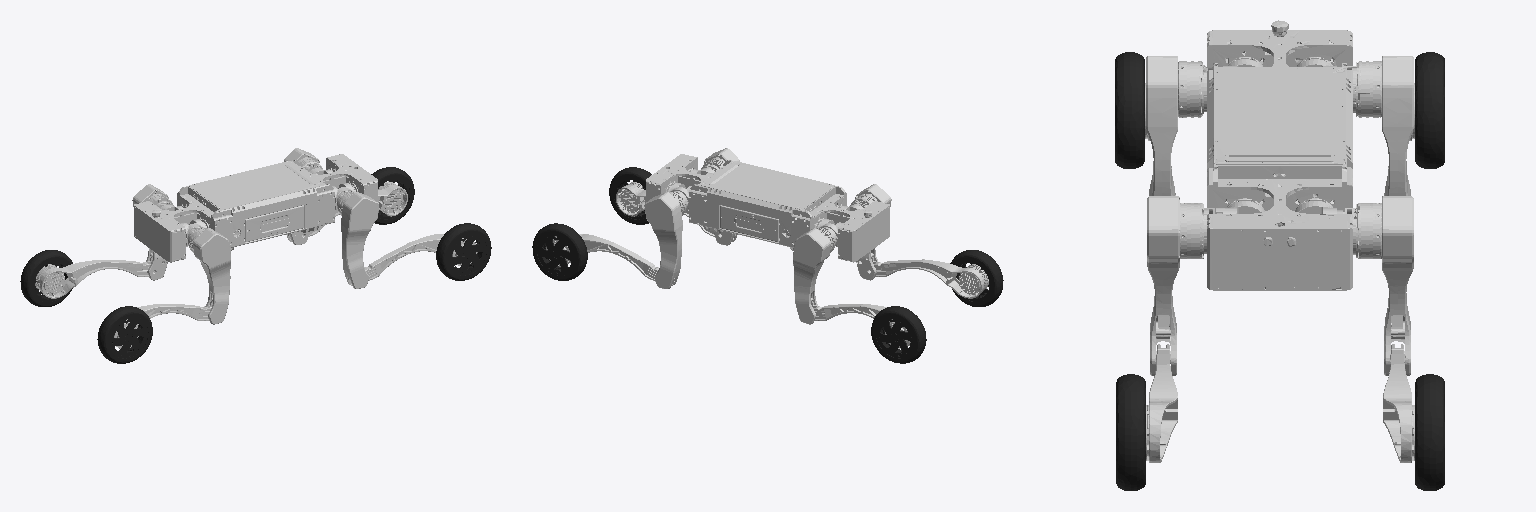
The robot description file, URDF, robot "m1":
<?xml version="1.0" encoding="utf-8"?>
<!-- This URDF was automatically created by SolidWorks to URDF Exporter! Originally created by Stephen Brawner (brawner@gmail.com) 
     Commit Version: 1.6.0-4-g7f85cfe  Build Version: 1.6.7995.38578
     For more information, please see http://wiki.ros.org/sw_urdf_exporter -->
<robot
  name="m1">

  <material name="black">
    <color rgba="0.0 0.0 0.0 1.0"/>
  </material>
  <material name="light_grey">
    <color rgba="0.85 0.85 0.85 1.0"/>
  </material>
  <material name="grey">
    <color rgba="0.2 0.2 0.2 1.0"/>
  </material>
  <link
    name="trunk">
    <inertial>
      <origin
        xyz="0.0012616 5.2895E-05 0.025714"
        rpy="0 0 0" />
      <mass
        value="13.9" />
      <inertia
        ixx="0.047768"
        ixy="5.3367E-06"
        ixz="-1.422E-06"
        iyy="0.43376"
        iyz="7.6034E-06"
        izz="0.47392" />
    </inertial>
    <visual>
      <origin
        xyz="0 0 0"
        rpy="0 0 0" />
      <geometry>
        <mesh
          filename="../meshes/trunk.STL" />
      </geometry>
      <material name="light_grey"/>
    </visual>
    <collision>
      <origin rpy="0 0 0" xyz="0.0 0 0.06"/>
      <geometry>
        <box size="0.4 0.25 0.16"/>
      </geometry>
    </collision>
    <collision>
      <origin rpy="0 0 0" xyz="0.37 0 0.06"/>
      <geometry>
        <box size="0.06 0.24 0.11"/>
      </geometry>
    </collision>
    <collision>
      <origin rpy="0 0 0" xyz="-0.37 0 0.06"/>
      <geometry>
        <box size="0.06 0.24 0.11"/>
      </geometry>
    </collision>
  </link>
  <joint name="imu_joint" type="fixed">
    <parent link="trunk"/>
    <child link="imu_link"/>
    <origin rpy="0 0 0" xyz="0 0 0"/>
  </joint>
  <link name="imu_link">
    <inertial>
      <mass value="0.001"/>
      <origin rpy="0 0 0" xyz="0 0 0"/>
      <inertia ixx="0.0001" ixy="0" ixz="0" iyy="0.0001" iyz="0" izz="0.0001"/>
    </inertial>
    <visual>
      <origin rpy="0 0 0" xyz="0 0 0"/>
      <geometry>
        <box size="0.001 0.001 0.001"/>
      </geometry>
    </visual>
  </link>
  <link
    name="LF_abad_link">
    <inertial>
      <origin
        xyz="-2.5841E-05 0.014876 0.00063077"
        rpy="0 0 0" />
      <mass
        value="3.325" />
      <inertia
        ixx="0.0030921"
        ixy="2.5247E-06"
        ixz="1.0139E-05"
        iyy="0.0022587"
        iyz="1.3093E-06"
        izz="0.0021107" />
    </inertial>
    <visual>
      <origin
        xyz="0 0 0"
        rpy="0 0 0" />
      <geometry>
        <mesh
          filename="../meshes/LF_ABAD_Link.STL" />
      </geometry>
      <material name="light_grey"/>
    </visual>
    <collision>
      <origin rpy="0 1.5707963267948966 0" xyz="0 0 0"/>
      <geometry>
        <cylinder length="0.08" radius="0.033"/>
      </geometry>
    </collision>
  </link>
  <joint
    name="LF_HAA"
    type="revolute">
    <origin
      xyz="0.28614 0.06 0.058"
      rpy="0 0 0" />
    <parent
      link="trunk" />
    <child
      link="LF_abad_link" />
    <axis
      xyz="1 0 0" />
    <limit
      lower="-1.134464"
      upper="1.570796"
      effort="40"
      velocity="21" />
  </joint>
  <link
    name="LF_thigh_link">
    <inertial>
      <origin
        xyz="-0.010007 0.05226 -0.058836"
        rpy="0 0 0" />
      <mass
        value="2.515" />
      <inertia
        ixx="0.014475"
        ixy="3.5191E-05"
        ixz="-0.0013218"
        iyy="0.016621"
        iyz="9.9535E-05"
        izz="0.0024626" />
    </inertial>
    <visual>
      <origin
        xyz="0 0 0"
        rpy="0 0 0" />
      <geometry>
        <mesh
          filename="../meshes/LF_THIGH_Link.STL" />
      </geometry>
      <material name="light_grey"/>
    </visual>
    <collision>
      <origin rpy="1.5707963267948966 0 0" xyz="0 0.058 0.0"/>
      <geometry>
        <cylinder radius="0.046" length="0.095"/>
      </geometry>
    </collision>
    <collision>
      <origin rpy="0 1.5707963267948966 0" xyz="-0.024 0.078 -0.12"/>
      <geometry>
        <box size="0.12 0.03 0.04"/>
      </geometry>
    </collision>
  </link>
  <joint
    name="LF_HFE"
    type="revolute">
    <origin
      xyz="0 0.063 0"
      rpy="0 0 0" />
    <parent
      link="LF_abad_link" />
    <child
      link="LF_thigh_link" />
    <axis
      xyz="0 1 0" />
    <limit
      lower="-1.201135"
      upper="4.156458"
      effort="40"
      velocity="21" />
  </joint>
  <link
    name="LF_shank_link">
    <inertial>
      <origin
        xyz="0.008931 0.023979 -0.2881"
        rpy="0 0 0" />
      <mass
        value="1.578" />
      <inertia
        ixx="0.012778"
        ixy="3.3951E-05"
        ixz="0.0003029"
        iyy="0.013738"
        iyz="0.00030089"
        izz="0.0012546" />
    </inertial>
    <visual>
      <origin
        xyz="0 0 0"
        rpy="0 0 0" />
      <geometry>
        <mesh
          filename="../meshes/LF_SHANK_Link.STL" />
      </geometry>
      <material name="light_grey"/>
    </visual>
    <collision>
      <origin rpy="0 1.35 0" xyz="0.033 0 -0.14"/>
      <geometry>
        <box size="0.155 0.026 0.026"/>
      </geometry>
    </collision>
    <collision>
      <origin rpy="0 1.9 0" xyz="0.028 0 -0.27"/>
      <geometry>
        <box size="0.086 0.033 0.035"/>
      </geometry>
    </collision>
  </link>
  <joint
    name="LF_KNEE"
    type="revolute">
    <origin
      xyz="0 0.0778 -0.23848"
      rpy="0 0 0" />
    <parent
      link="LF_thigh_link" />
    <child
      link="LF_shank_link" />
    <axis
      xyz="0 1 0" />
    <limit
      lower="-2.617994"
      upper="-0.680678"
      effort="100"
      velocity="8" />
  </joint>
  <link
    name="LF_FOOT_link">
    <inertial>
      <origin
        xyz="2.6076E-06 -0.021187 -2.4862E-07"
        rpy="0 0 0" />
      <mass
        value="0.856" />
      <inertia
        ixx="0.0030911"
        ixy="1.6918E-08"
        ixz="-2.0692E-07"
        iyy="0.0059162"
        iyz="-1.9592E-09"
        izz="0.0030898" />
    </inertial>
    <visual>
      <origin
        xyz="0 0 0"
        rpy="0 0 0" />
      <geometry>
        <mesh
          filename="../meshes/LF_FOOT_Link.STL" />
      </geometry>
      <material name="grey"/>
    </visual>
    <collision>
      <origin rpy="1.5707963267948966 0 0" xyz="0 -0.02325 0.00011"/>
      <geometry>
        <cylinder radius="0.095" length="0.045"/>
      </geometry>
    </collision>
  </link>
  <joint
    name="LF_WHEEL"
    type="revolute">
    <origin
      xyz="0 0.07855 -0.36538"
      rpy="0 0 0" />
    <parent
      link="LF_shank_link" />
    <child
      link="LF_FOOT_link" />
    <axis
      xyz="0 1 0" />
    <limit
      lower="-99999"
      upper="99999"
      effort="40"
      velocity="21" />
  </joint>
  <link
    name="RF_abad_link">
    <inertial>
      <origin
        xyz="-2.5854E-05 -0.014876 -0.00063077"
        rpy="0 0 0" />
      <mass
        value="3.325" />
      <inertia
        ixx="0.0030921"
        ixy="-2.5247E-06"
        ixz="-1.0139E-05"
        iyy="0.0022587"
        iyz="1.3093E-06"
        izz="0.0021107" />
    </inertial>
    <visual>
      <origin
        xyz="0 0 0"
        rpy="0 0 0" />
      <geometry>
        <mesh
          filename="../meshes/RF_ABAD_Link.STL" />
      </geometry>
      <material name="light_grey"/>
    </visual>
    <collision>
      <origin rpy="0 1.5707963267948966 0" xyz="0 0 0"/>
      <geometry>
        <cylinder length="0.08" radius="0.033"/>
      </geometry>
    </collision>
  </link>
  <joint
    name="RF_HAA"
    type="revolute">
    <origin
      xyz="0.28614 -0.06 0.058"
      rpy="0 0 0" />
    <parent
      link="trunk" />
    <child
      link="RF_abad_link" />
    <axis
      xyz="1 0 0" />
    <limit
      lower="-1.570796"
      upper="1.134464"
      effort="40"
      velocity="21" />
  </joint>
  <link
    name="RF_thigh_link">
    <inertial>
      <origin
        xyz="-0.010605 -0.056769 -0.06102"
        rpy="0 0 0" />
      <mass
        value="2.515" />
      <inertia
        ixx="0.016911"
        ixy="-1.0748E-05"
        ixz="-0.0015773"
        iyy="0.019346"
        iyz="-4.6592E-05"
        izz="0.0027816" />
    </inertial>
    <visual>
      <origin
        xyz="0 0 0"
        rpy="0 0 0" />
      <geometry>
        <mesh
          filename="../meshes/RF_THIGH_Link.STL" />
      </geometry>
      <material name="light_grey"/>
    </visual>
    <collision>
      <origin rpy="1.5707963267948966 0 0" xyz="0 -0.058 0.0"/>
      <geometry>
        <cylinder radius="0.046" length="0.095"/>
      </geometry>
    </collision>
    <collision>
      <origin rpy="0 1.5707963267948966 0" xyz="-0.024 -0.078 -0.12"/>
      <geometry>
        <box size="0.12 0.03 0.04"/>
      </geometry>
    </collision>
  </link>
  <joint
    name="RF_HFE"
    type="revolute">
    <origin
      xyz="0 -0.061 0"
      rpy="0 0 0" />
    <parent
      link="RF_abad_link" />
    <child
      link="RF_thigh_link" />
    <axis
      xyz="0 1 0" />
    <limit
      lower="-1.201135"
      upper="4.156458"
      effort="40"
      velocity="21" />
  </joint>
  <link
    name="RF_shank_link">
    <inertial>
      <origin
        xyz="0.0092708 -0.023991 -0.28836"
        rpy="0 0 0" />
      <mass
        value="1.578" />
      <inertia
        ixx="0.012757"
        ixy="-3.6897E-05"
        ixz="0.0003"
        iyy="0.013714"
        iyz="-0.0002993"
        izz="0.001252" />
    </inertial>
    <visual>
      <origin
        xyz="0 0 0"
        rpy="0 0 0" />
      <geometry>
        <mesh
          filename="../meshes/RF_SHANK_Link.STL" />
      </geometry>
      <material name="light_grey"/>
    </visual>
    <collision>
      <origin rpy="0 1.35 0" xyz="0.033 0 -0.14"/>
      <geometry>
        <box size="0.155 0.026 0.026"/>
      </geometry>
    </collision>
    <collision>
      <origin rpy="0 1.9 0" xyz="0.028 0 -0.27"/>
      <geometry>
        <box size="0.086 0.033 0.035"/>
      </geometry>
    </collision>
  </link>
  <joint
    name="RF_KNEE"
    type="revolute">
    <origin
      xyz="0 -0.0778 -0.23848"
      rpy="0 0 0" />
    <parent
      link="RF_thigh_link" />
    <child
      link="RF_shank_link" />
    <axis
      xyz="0 1 0" />
    <limit
      lower="-2.617994"
      upper="-0.680678"
      effort="100"
      velocity="8" />
  </joint>
  <link
    name="RF_FOOT_link">
    <inertial>
      <origin
        xyz="-2.607E-06 0.021187 -2.5561E-07"
        rpy="0 0 0" />
      <mass
        value="0.856" />
      <inertia
        ixx="0.0030911"
        ixy="1.6913E-08"
        ixz="2.1053E-07"
        iyy="0.0059162"
        iyz="2.0046E-09"
        izz="0.0030898" />
    </inertial>
    <visual>
      <origin
        xyz="0 0 0"
        rpy="0 0 0" />
      <geometry>
        <mesh
          filename="../meshes/RF_FOOT_Link.STL" />
      </geometry>
      <material name="grey"/>
    </visual>
    <collision>
      <origin rpy="1.5707963267948966 0 0" xyz="0 0.02325 0"/>
      <geometry>
        <cylinder radius="0.095" length="0.045"/>
      </geometry>
    </collision>
  </link>
  <joint
    name="RF_WHEEL"
    type="revolute">
    <origin
      xyz="0 -0.07855 -0.36538"
      rpy="0 0 0" />
    <parent
      link="RF_shank_link" />
    <child
      link="RF_FOOT_link" />
    <axis
      xyz="0 1 0" />
    <limit
      lower="-99999"
      upper="99999"
      effort="40"
      velocity="21" />
  </joint>
  <link
    name="LH_abad_link">
    <inertial>
      <origin
        xyz="-2.5841E-05 0.014876 0.00063077"
        rpy="0 0 0" />
      <mass
        value="3.325" />
      <inertia
        ixx="0.0030921"
        ixy="2.5247E-06"
        ixz="1.0139E-05"
        iyy="0.0022587"
        iyz="1.3093E-06"
        izz="0.0021107" />
    </inertial>
    <visual>
      <origin
        xyz="0 0 0"
        rpy="0 0 0" />
      <geometry>
        <mesh
          filename="../meshes/LH_ABAD_Link.STL" />
      </geometry>
      <material name="light_grey"/>
    </visual>
    <collision>
      <origin rpy="0 1.5707963267948966 0" xyz="0 0 0"/>
      <geometry>
        <cylinder length="0.08" radius="0.033"/>
      </geometry>
    </collision>
  </link>
  <joint
    name="LH_HAA"
    type="revolute">
    <origin
      xyz="-0.28586 0.06 0.058"
      rpy="0 0 0" />
    <parent
      link="trunk" />
    <child
      link="LH_abad_link" />
    <axis
      xyz="1 0 0" />
    <limit
      lower="-1.134464"
      upper="1.570796"
      effort="40"
      velocity="21" />
  </joint>
  <link
    name="LH_thigh_link">
    <inertial>
      <origin
        xyz="0.010605 0.056769 -0.06102"
        rpy="0 0 0" />
      <mass
        value="2.515" />
      <inertia
        ixx="0.016911"
        ixy="-1.0748E-05"
        ixz="0.0015773"
        iyy="0.019346"
        iyz="4.6592E-05"
        izz="0.0027816" />
    </inertial>
    <visual>
      <origin
        xyz="0 0 0"
        rpy="0 0 0" />
      <geometry>
        <mesh
          filename="../meshes/LH_THIGH_Link.STL" />
      </geometry>
      <material name="light_grey"/>
    </visual>
    <collision>
      <origin rpy="1.5707963267948966 0 0" xyz="0 0.058 0.0"/>
      <geometry>
        <cylinder radius="0.046" length="0.095"/>
      </geometry>
    </collision>
    <collision>
      <origin rpy="0 -1.5707963267948966 0" xyz="0.024 0.078 -0.12"/>
      <geometry>
        <box size="0.12 0.03 0.04"/>
      </geometry>
    </collision>
  </link>
  <joint
    name="LH_HFE"
    type="revolute">
    <origin
      xyz="0 0.063 0"
      rpy="0 0 0" />
    <parent
      link="LH_abad_link" />
    <child
      link="LH_thigh_link" />
    <axis
      xyz="0 1 0" />
    <limit
      lower="-4.156458"
      upper="1.201135"
      effort="40"
      velocity="21" />
  </joint>
  <link
    name="LH_shank_link">
    <inertial>
      <origin
        xyz="-0.0092708 0.023991 -0.28836"
        rpy="0 0 0" />
      <mass
        value="1.578" />
      <inertia
        ixx="0.012757"
        ixy="-3.6897E-05"
        ixz="-0.0003"
        iyy="0.013714"
        iyz="0.0002993"
        izz="0.001252" />
    </inertial>
    <visual>
      <origin
        xyz="0 0 0"
        rpy="0 0 0" />
      <geometry>
        <mesh
          filename="../meshes/LH_SHANK_Link.STL" />
      </geometry>
      <material name="light_grey"/>
    </visual>
    <collision>
      <origin rpy="0 -1.35 0" xyz="-0.033 0 -0.14"/>
      <geometry>
        <box size="0.155 0.026 0.026"/>
      </geometry>
    </collision>
    <collision>
      <origin rpy="0 -1.9 0" xyz="-0.028 0 -0.27"/>
      <geometry>
        <box size="0.086 0.033 0.035"/>
      </geometry>
    </collision>
  </link>
  <joint
    name="LH_KNEE"
    type="revolute">
    <origin
      xyz="0 0.0778 -0.23848"
      rpy="0 0 0" />
    <parent
      link="LH_thigh_link" />
    <child
      link="LH_shank_link" />
    <axis
      xyz="0 1 0" />
    <limit
      lower="0.680678"
      upper="2.617994"
      effort="100"
      velocity="8" />
  </joint>
  <link
    name="LH_FOOT_link">
    <inertial>
      <origin
        xyz="2.607E-06 -0.021187 -2.5561E-07"
        rpy="0 0 0" />
      <mass
        value="0.856" />
      <inertia
        ixx="0.0030911"
        ixy="1.6913E-08"
        ixz="-2.1053E-07"
        iyy="0.0059162"
        iyz="-2.0046E-09"
        izz="0.0030898" />
    </inertial>
    <visual>
      <origin
        xyz="0 0 0"
        rpy="0 0 0" />
      <geometry>
        <mesh
          filename="../meshes/LH_FOOT_Link.STL" />
      </geometry>
      <material name="grey"/>
    </visual>
    <collision>
      <origin rpy="1.5707963267948966 0 0" xyz="0.00010 -0.02325 0"/>
      <geometry>
        <cylinder radius="0.095" length="0.045"/>
      </geometry>
    </collision>
  </link>
  <joint
    name="LH_WHEEL"
    type="revolute">
    <origin
      xyz="0 0.07855 -0.36538"
      rpy="0 0 0" />
    <parent
      link="LH_shank_link" />
    <child
      link="LH_FOOT_link" />
    <axis
      xyz="0 1 0" />
    <limit
      lower="-99999"
      upper="99999"
      effort="40"
      velocity="21" />
  </joint>
  <link
    name="RH_abad_link">
    <inertial>
      <origin
        xyz="-2.5841E-05 -0.014876 -0.00063077"
        rpy="0 0 0" />
      <mass
        value="3.325" />
      <inertia
        ixx="0.0030921"
        ixy="-2.5247E-06"
        ixz="-1.0139E-05"
        iyy="0.0022587"
        iyz="1.3093E-06"
        izz="0.0021107" />
    </inertial>
    <visual>
      <origin
        xyz="0 0 0"
        rpy="0 0 0" />
      <geometry>
        <mesh
          filename="../meshes/RH_ABAD_Link.STL" />
      </geometry>
      <material name="light_grey"/>
    </visual>
    <collision>
      <origin rpy="0 1.5707963267948966 0" xyz="0 0 0"/>
      <geometry>
        <cylinder length="0.08" radius="0.033"/>
      </geometry>
    </collision>
  </link>
  <joint
    name="RH_HAA"
    type="revolute">
    <origin
      xyz="-0.28586 -0.06 0.058"
      rpy="0 0 0" />
    <parent
      link="trunk" />
    <child
      link="RH_abad_link" />
    <axis
      xyz="1 0 0" />
    <limit
      lower="-1.570796"
      upper="1.134464"
      effort="40"
      velocity="21" />
  </joint>
  <link
    name="RH_thigh_link">
    <inertial>
      <origin
        xyz="0.010007 -0.05226 -0.058836"
        rpy="0 0 0" />
      <mass
        value="2.515" />
      <inertia
        ixx="0.014475"
        ixy="3.5191E-05"
        ixz="0.0013218"
        iyy="0.016621"
        iyz="-9.9535E-05"
        izz="0.0024626" />
    </inertial>
    <visual>
      <origin
        xyz="0 0 0"
        rpy="0 0 0" />
      <geometry>
        <mesh
          filename="../meshes/RH_THIGH_Link.STL" />
      </geometry>
      <material name="light_grey"/>
    </visual>
    <collision>
      <origin rpy="1.5707963267948966 0 0" xyz="0 -0.058 0.0"/>
      <geometry>
        <cylinder radius="0.046" length="0.095"/>
      </geometry>
    </collision>
    <collision>
      <origin rpy="0 -1.5707963267948966 0" xyz="0.024 -0.078 -0.12"/>
      <geometry>
        <box size="0.12 0.03 0.04"/>
      </geometry>
    </collision>
  </link>
  <joint
    name="RH_HFE"
    type="revolute">
    <origin
      xyz="0 -0.063 0"
      rpy="0 0 0" />
    <parent
      link="RH_abad_link" />
    <child
      link="RH_thigh_link" />
    <axis
      xyz="0 1 0" />
    <limit
      lower="-4.156458"
      upper="1.201135"
      effort="40"
      velocity="21" />
  </joint>
  <link
    name="RH_shank_link">
    <inertial>
      <origin
        xyz="-0.008931 -0.023979 -0.2881"
        rpy="0 0 0" />
      <mass
        value="1.578" />
      <inertia
        ixx="0.012778"
        ixy="3.3951E-05"
        ixz="-0.0003029"
        iyy="0.013738"
        iyz="-0.00030089"
        izz="0.0012546" />
    </inertial>
    <visual>
      <origin
        xyz="0 0 0"
        rpy="0 0 0" />
      <geometry>
        <mesh
          filename="../meshes/RH_SHANK_Link.STL" />
      </geometry>
      <material name="light_grey"/>
    </visual>
    <collision>
      <origin rpy="0 -1.35 0" xyz="-0.033 0 -0.14"/>
      <geometry>
        <box size="0.155 0.026 0.026"/>
      </geometry>
    </collision>
    <collision>
      <origin rpy="0 -1.9 0" xyz="-0.028 0 -0.27"/>
      <geometry>
        <box size="0.086 0.033 0.035"/>
      </geometry>
    </collision>
  </link>
  <joint
    name="RH_KNEE"
    type="revolute">
    <origin
      xyz="0 -0.0778 -0.23848"
      rpy="0 0 0" />
    <parent
      link="RH_thigh_link" />
    <child
      link="RH_shank_link" />
    <axis
      xyz="0 1 0" />
    <limit
      lower="0.680678"
      upper="2.617994"
      effort="100"
      velocity="8" />
  </joint>
  <link
    name="RH_FOOT_link">
    <inertial>
      <origin
        xyz="-2.6005E-06 0.021187 -3.1438E-07"
        rpy="0 0 0" />
      <mass
        value="0.856" />
      <inertia
        ixx="0.0030911"
        ixy="1.6863E-08"
        ixz="2.4066E-07"
        iyy="0.0059162"
        iyz="2.3857E-09"
        izz="0.0030898" />
    </inertial>
    <visual>
      <origin
        xyz="0 0 0"
        rpy="0 0 0" />
      <geometry>
        <mesh
          filename="../meshes/RH_FOOT_Link.STL" />
      </geometry>
      <material name="grey"/>
    </visual>
    <collision>
      <origin rpy="1.5707963267948966 0 0" xyz="0 0.02325 0"/>
      <geometry>
        <cylinder radius="0.095" length="0.045"/>
      </geometry>
    </collision>
  </link>
  <joint
    name="RH_WHEEL"
    type="revolute">
    <origin
      xyz="0 -0.07855 -0.36538"
      rpy="0 0 0" />
    <parent
      link="RH_shank_link" />
    <child
      link="RH_FOOT_link" />
    <axis
      xyz="0 1 0" />
    <limit
      lower="-99999"
      upper="99999"
      effort="40"
      velocity="21" />
  </joint>
</robot>

--- What the picture shows (computed from the rendered views, not written in the file) ---
3 views of the same robot in one strip: view 1: azimuth 30°, elevation 25°; view 2: azimuth 150°, elevation 25°; view 3: azimuth 270°, elevation 25° (orthographic).
Model m1 with 18 links and 17 joints (16 revolute, 1 fixed), rooted at trunk, posed joints at zero except 4 at the middle of their limits (LF_KNEE = -1.65, RF_KNEE = -1.65, LH_KNEE = 1.65, RH_KNEE = 1.65).
Links seen in each view (by area): view 1: trunk, RF_thigh_link, RH_thigh_link, RF_FOOT_link, RH_FOOT_link, LH_shank_link, LH_FOOT_link, RF_shank_link, LF_FOOT_link, LH_thigh_link, LF_shank_link, RH_shank_link (+1 smaller); view 2: trunk, LF_thigh_link, LH_thigh_link, LH_FOOT_link, LF_FOOT_link, RH_shank_link, RH_FOOT_link, LF_shank_link, RF_FOOT_link, RH_thigh_link, RF_shank_link, LH_shank_link (+1 smaller); view 3: trunk, LF_thigh_link, RF_thigh_link, LH_thigh_link, RH_thigh_link, LF_FOOT_link, LH_FOOT_link, RH_FOOT_link, RF_FOOT_link, RF_shank_link, LF_shank_link, RF_abad_link (+1 smaller).
Link boxes in pixels (bbox=[...]): trunk: bbox=[134, 154, 377, 262]; RF_thigh_link: bbox=[338, 191, 378, 288]; RH_thigh_link: bbox=[189, 228, 230, 324]; RF_FOOT_link: bbox=[436, 223, 491, 280]; RH_FOOT_link: bbox=[97, 306, 152, 363]; LH_shank_link: bbox=[35, 260, 155, 298]; LH_FOOT_link: bbox=[20, 250, 72, 306]; RF_shank_link: bbox=[348, 234, 477, 281]; LF_FOOT_link: bbox=[371, 167, 414, 224]; LH_thigh_link: bbox=[132, 184, 171, 280]; LF_shank_link: bbox=[288, 181, 407, 237]; RH_shank_link: bbox=[114, 304, 211, 348]; trunk: bbox=[646, 154, 889, 262]; LF_thigh_link: bbox=[644, 191, 685, 288]; LH_thigh_link: bbox=[793, 228, 834, 324]; LH_FOOT_link: bbox=[871, 306, 926, 363]; LF_FOOT_link: bbox=[532, 223, 587, 280]; RH_shank_link: bbox=[868, 259, 988, 298]; RH_FOOT_link: bbox=[950, 250, 1003, 306]; LF_shank_link: bbox=[546, 234, 674, 281]; RF_FOOT_link: bbox=[609, 167, 651, 224]; RH_thigh_link: bbox=[855, 184, 891, 280]; RF_shank_link: bbox=[616, 182, 735, 237]; LH_shank_link: bbox=[813, 304, 910, 348]; trunk: bbox=[1207, 20, 1352, 290]; LF_thigh_link: bbox=[1352, 196, 1413, 375]; RF_thigh_link: bbox=[1147, 196, 1208, 375]; LH_thigh_link: bbox=[1352, 56, 1413, 195]; RH_thigh_link: bbox=[1146, 56, 1207, 195]; LF_FOOT_link: bbox=[1415, 374, 1444, 490]; LH_FOOT_link: bbox=[1415, 52, 1444, 168]; RH_FOOT_link: bbox=[1115, 52, 1144, 168]; RF_FOOT_link: bbox=[1116, 374, 1145, 490]; RF_shank_link: bbox=[1146, 344, 1177, 462]; LF_shank_link: bbox=[1383, 344, 1414, 462]; RF_abad_link: bbox=[1202, 193, 1266, 255].
Size in the robot's own frame: 1.5 by 0.5622 by 0.3951 metres.
Meshes: 17 distinct files referenced, 17 mesh visuals loaded (17 binary STL).
